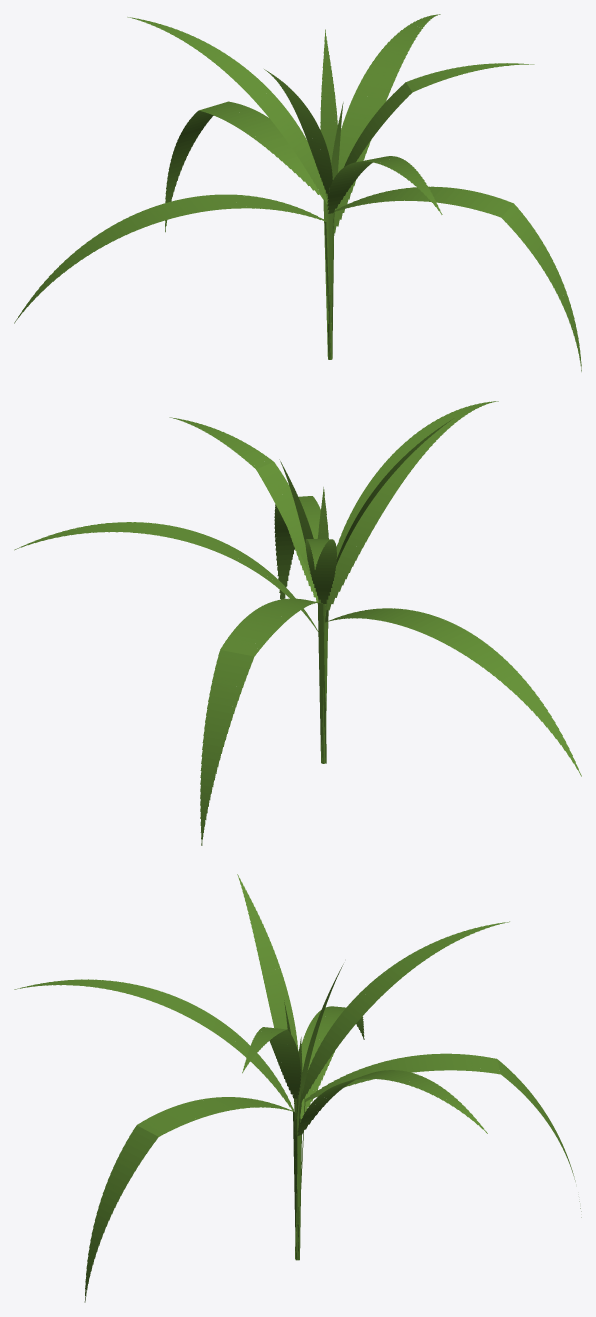
Rendered from maize_004_day_075.dae.
3 renders of one model, top to bottom at view 1: azimuth 30°, elevation 25°; view 2: azimuth 150°, elevation 25°; view 3: azimuth 270°, elevation 25°, orthographic. The views are drawn at different scales.
Visible parts, largest first — view 1: node; view 2: node; view 3: node.
Boxes of the visible parts, x1=… form: node: x1=14, y1=14, x2=581, y2=371; node: x1=14, y1=401, x2=581, y2=845; node: x1=14, y1=874, x2=581, y2=1302.
Bounding box in the file's own units: 1.21 × 0.7924 × 1.21.
Materials: 1 (1 with a texture image).
